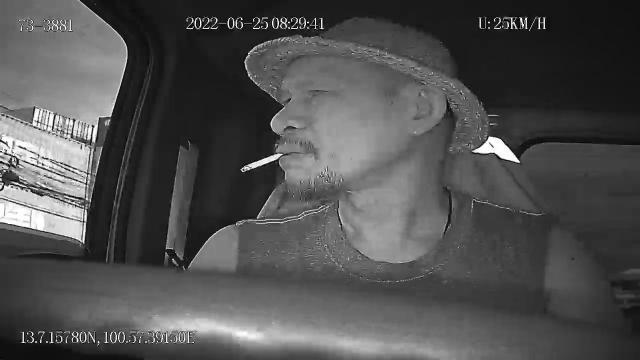Smoking: (240, 152, 284, 172)
